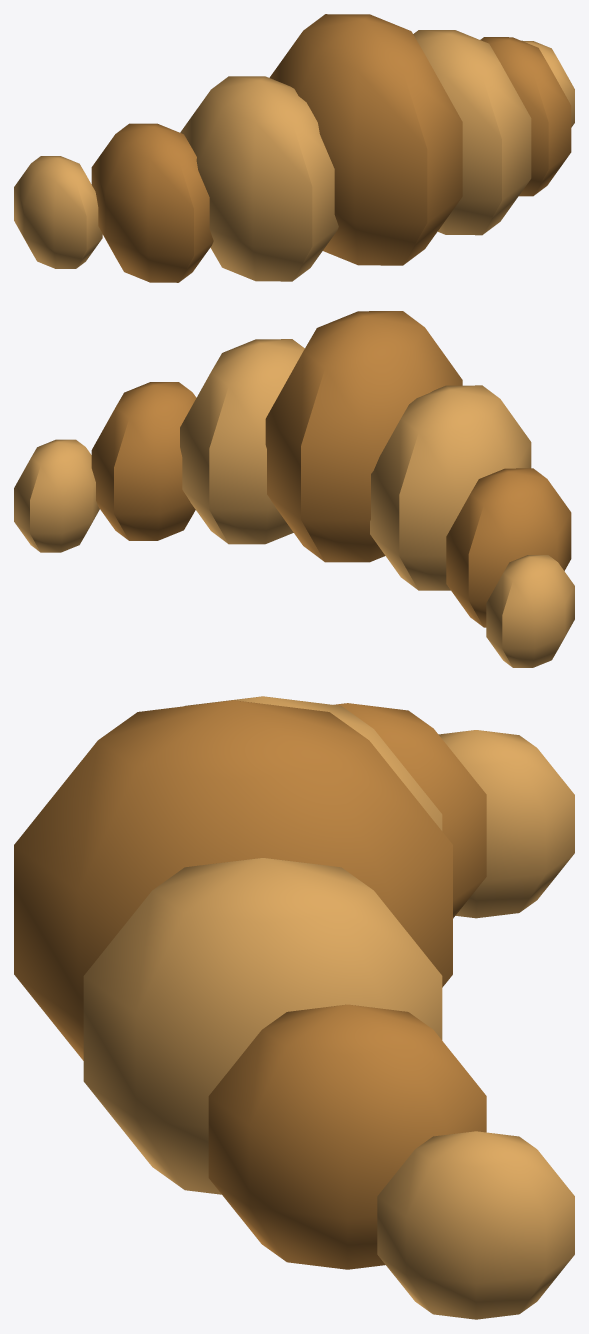
The model's file is croissant.glb.
The picture shows the model from 3 angles, top to bottom: view 1: azimuth 30°, elevation 25°; view 2: azimuth 150°, elevation 25°; view 3: azimuth 270°, elevation 25°; orthographic projection. The views are drawn at different scales.
Parts seen in each view (by area): view 1: croissant; view 2: croissant; view 3: croissant.
Boxes of the visible parts, <box> form: croissant: <box>14,14,574,282</box>; croissant: <box>14,311,574,667</box>; croissant: <box>14,696,574,1319</box>.
Bounding box in the file's own units: 0.1225 × 0.052 × 0.0632.
